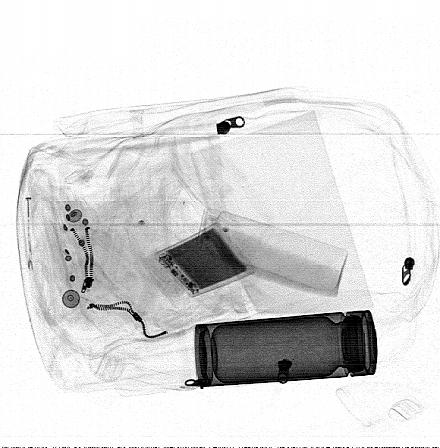Powerbank: (154, 222, 255, 298)
